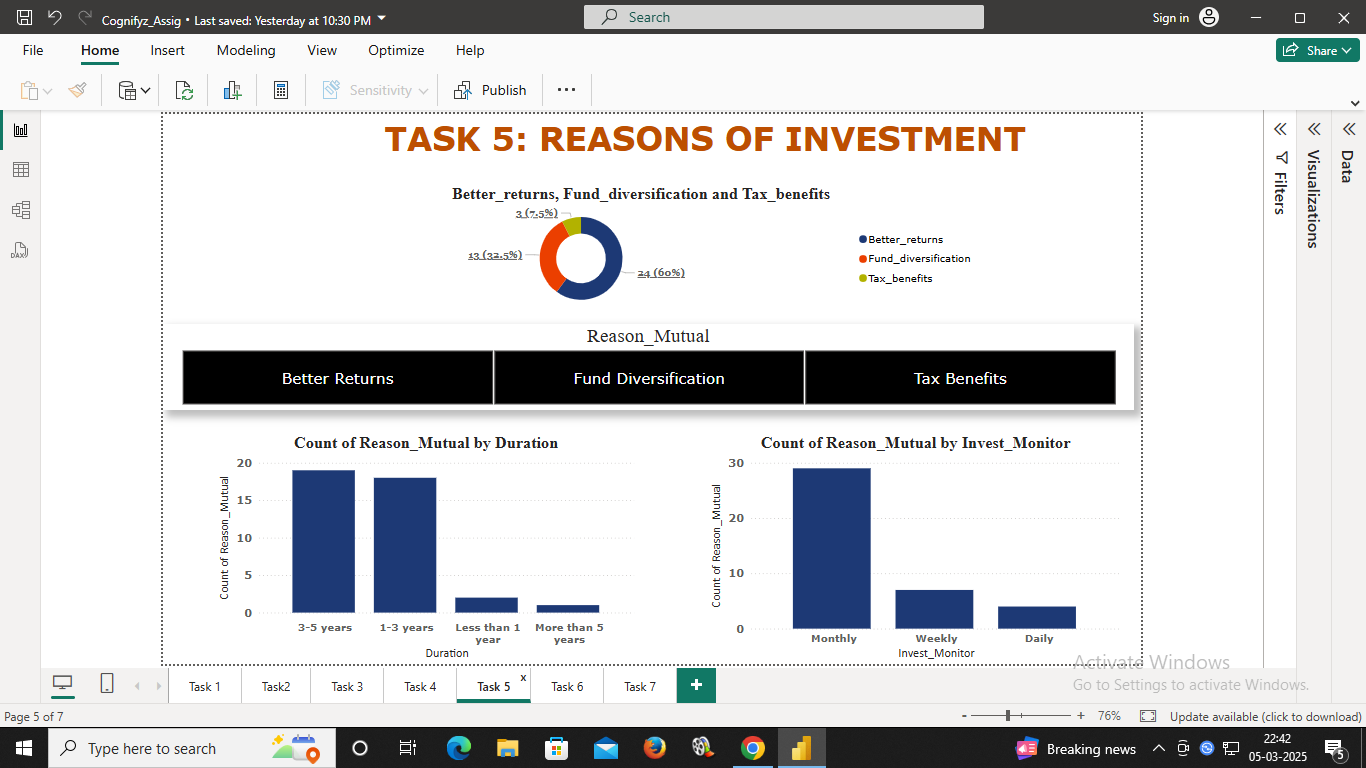

This screenshot's page, from the dashboard's own definition file:
{"tool":"powerbi","page":{"name":"Task 5","canvas":[1280,720],"ordinal":4},"visuals":[{"type":"textbox","box":[4.1,0,1276.2,74.5],"z":0},{"type":"columnChart","fields":{"Category":["Data_set 2.Duration"],"Y":["CountNonNull(Data_set 2.Reason_Mutual)"]},"box":[66.4,417.3,555.5,302.1],"z":1000},{"type":"columnChart","fields":{"Y":["CountNonNull(Data_set 2.Reason_Mutual)"],"Category":["Data_set 2.Invest_Monitor"]},"box":[711.3,417.3,548.7,302.1],"z":2000},{"type":"slicer","title":"Reason_Mutual","fields":{"Values":["Data_set 2.Reason_Mutual"]},"box":[0,275,1270.8,112.4],"z":3000},{"type":"donutChart","fields":{"Y":["Data_set 2.Better_returns","Data_set 2.Fund_diversification","Data_set 2.Tax_benefits"]},"box":[178.8,92.1,892.8,170.7],"z":4000}]}

Visuals, with their boxes on the page's 1280x720 design canvas (x1, y1, x2, y2). These are canvas units, not pixel positions in the 1366x768 screenshot, which may show the page scaled, cropped or inside an application window:
textbox: bbox(4, 0, 1280, 74)
columnChart - Data_set 2.Duration x CountNonNull(Data_set 2.Reason_Mutual): bbox(66, 417, 622, 719)
columnChart - CountNonNull(Data_set 2.Reason_Mutual) x Data_set 2.Invest_Monitor: bbox(711, 417, 1260, 719)
"Reason_Mutual" slicer: bbox(0, 275, 1271, 387)
donutChart - Data_set 2.Better_returns x Data_set 2.Fund_diversification: bbox(179, 92, 1072, 263)
